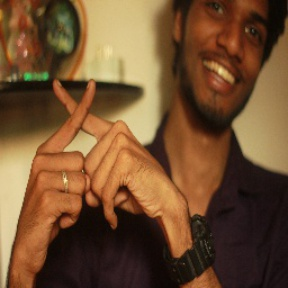X: (24, 67, 136, 174)
